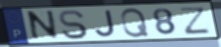8: (152, 8, 178, 36)
J: (93, 9, 117, 38)
N: (27, 9, 60, 43)
Q: (119, 7, 151, 39)
S: (57, 9, 89, 41)
Z: (180, 6, 211, 36)
